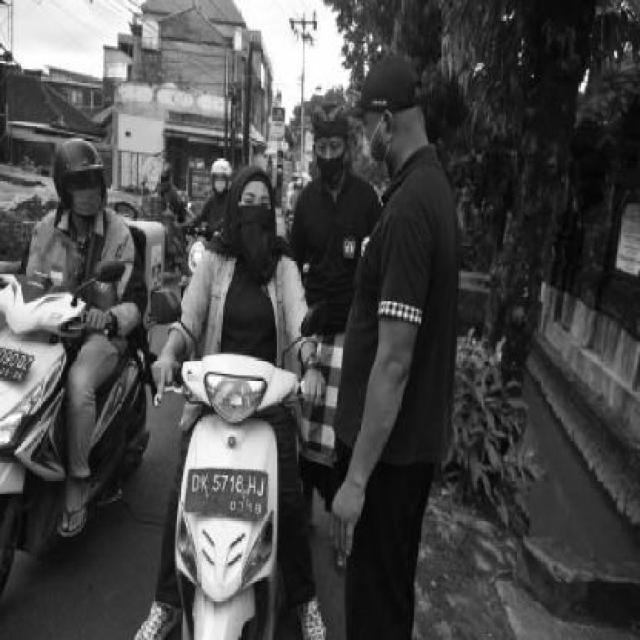1: (230, 472, 237, 496)
5: (212, 475, 222, 494)
6: (236, 476, 244, 494)
7: (220, 474, 229, 495)
D: (190, 474, 200, 492)
H: (249, 474, 257, 494)
J: (258, 474, 264, 500)
K: (200, 474, 208, 492)
